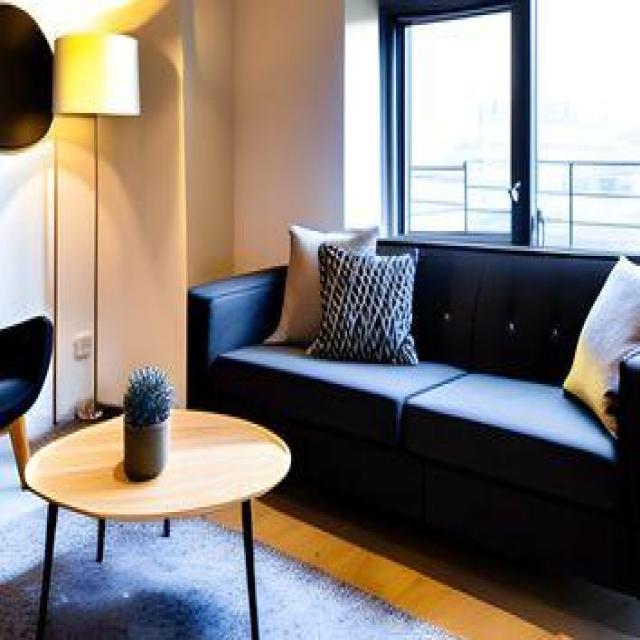Wall: (99, 0, 343, 405), (254, 482, 639, 639), (49, 507, 245, 638), (55, 118, 94, 421), (0, 134, 52, 327), (344, 0, 382, 228), (0, 1, 167, 46), (0, 489, 45, 638), (28, 371, 51, 438)
